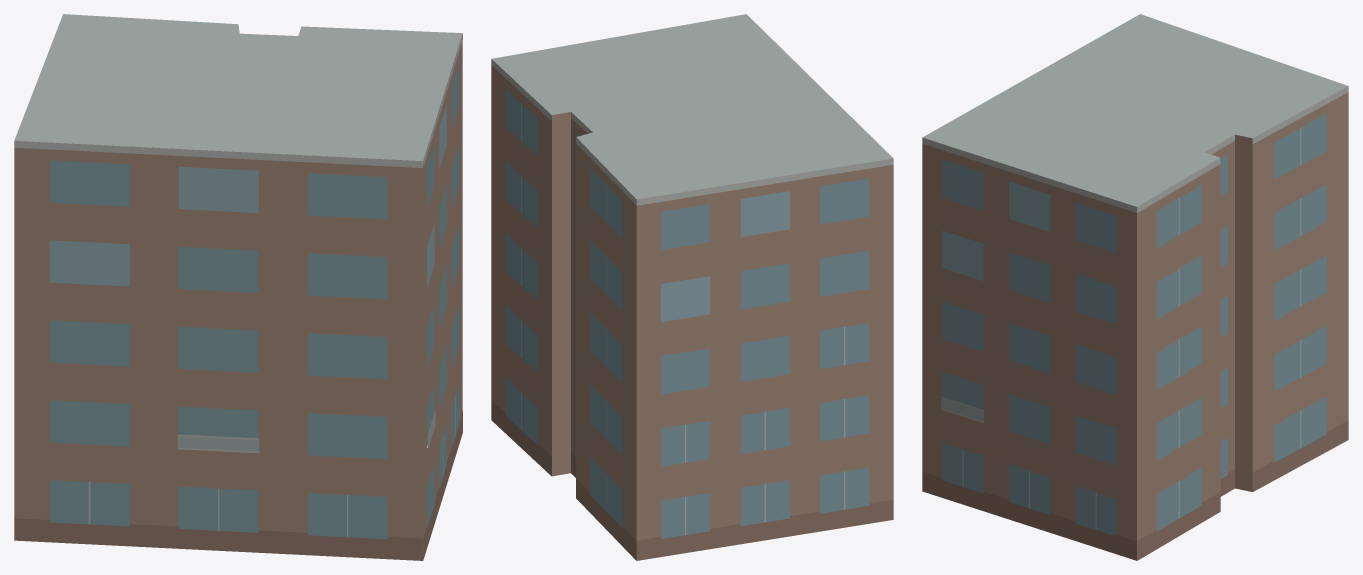
Rendered from survey-upis-32865658.glb.
3 renders of one model, left to right at view 1: azimuth 30°, elevation 25°; view 2: azimuth 150°, elevation 25°; view 3: azimuth 270°, elevation 25°, orthographic. The views are drawn at different scales.
Visible parts, largest first — view 1: survey-upis-32865658.tmp; view 2: survey-upis-32865658.tmp; view 3: survey-upis-32865658.tmp.
Boxes of the visible parts, x1,y1,x2,y2 form: survey-upis-32865658.tmp: (14,14,462,560); survey-upis-32865658.tmp: (491,14,893,560); survey-upis-32865658.tmp: (922,14,1348,560).
Size of the model in its own units: 16.62 by 14.2 by 15.51.
